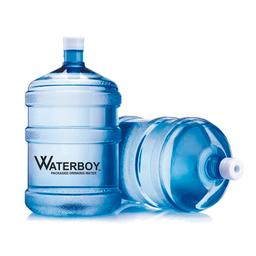plastic: (7, 23, 131, 232), (106, 99, 245, 221), (239, 90, 241, 90)
